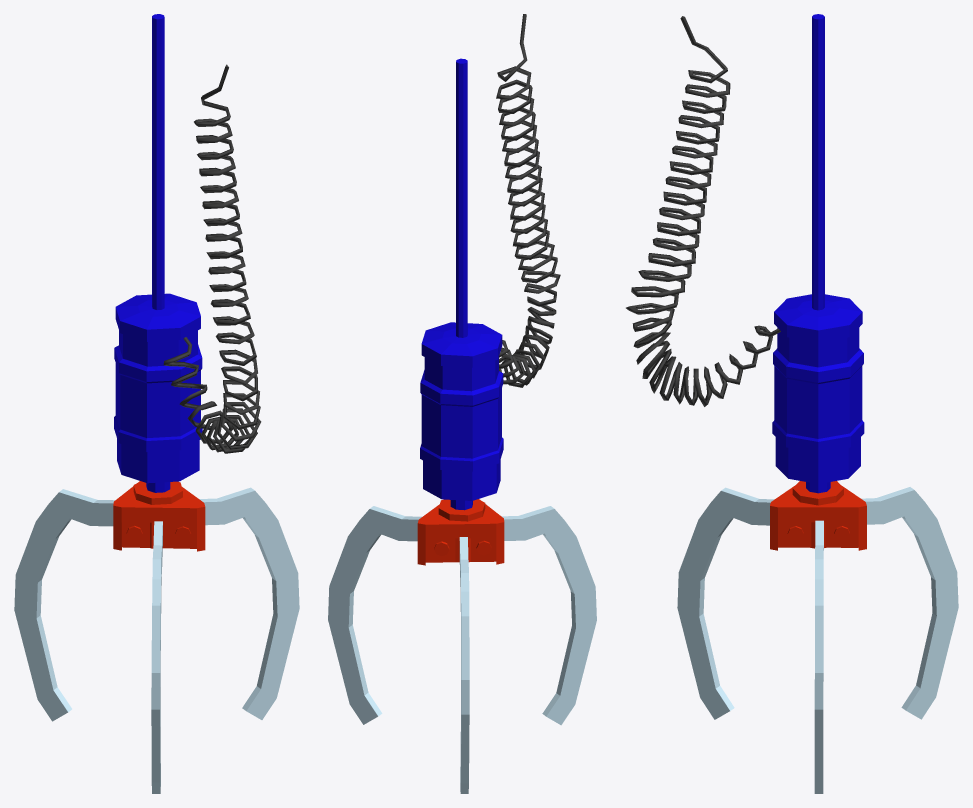
Rendered from CLAWUNUS.fbx.
3 renders of one model, left to right at view 1: azimuth 30°, elevation 25°; view 2: azimuth 150°, elevation 25°; view 3: azimuth 270°, elevation 25°, orthographic. The views are drawn at different scales.
Parts seen in each view (by area): view 1: MAIN PART, CLAWS, CABLE, BOX; view 2: MAIN PART, CLAWS, CABLE, BOX; view 3: MAIN PART, CLAWS, CABLE, BOX.
Part boxes in pixels (left/top/right/bottom): MAIN PART: left=114, top=14, right=202, bottom=492; CLAWS: left=14, top=487, right=299, bottom=793; CABLE: left=163, top=64, right=261, bottom=453; BOX: left=113, top=481, right=205, bottom=551; MAIN PART: left=420, top=58, right=503, bottom=510; CLAWS: left=328, top=506, right=596, bottom=793; CABLE: left=496, top=14, right=560, bottom=387; BOX: left=417, top=499, right=504, bottom=565; MAIN PART: left=772, top=14, right=864, bottom=493; CLAWS: left=677, top=487, right=958, bottom=793; CABLE: left=626, top=16, right=780, bottom=406; BOX: left=770, top=481, right=866, bottom=550.
Size of the model in its own units: 175 by 565 by 234.
